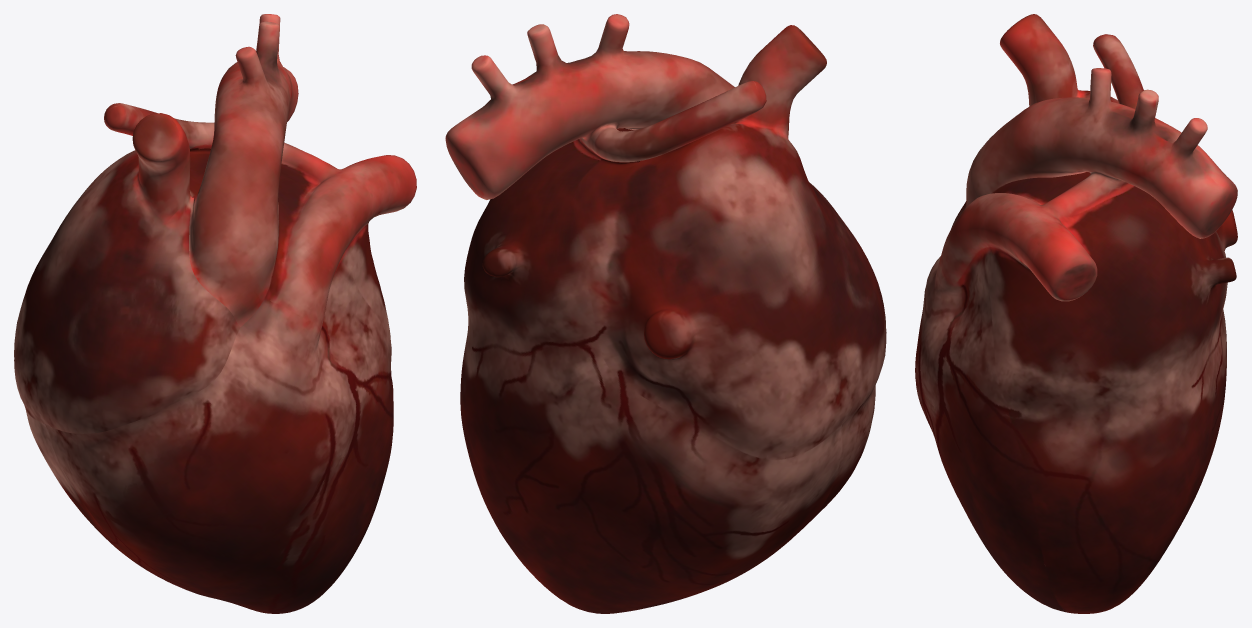
The model's file is heart-realistic.glb.
The picture shows the model from 3 angles, left to right: view 1: azimuth 30°, elevation 25°; view 2: azimuth 150°, elevation 25°; view 3: azimuth 270°, elevation 25°; orthographic projection. The views are drawn at different scales.
Visible parts, largest first — view 1: hart:ZBrush_defualt_group_Heart Tex_0; view 2: hart:ZBrush_defualt_group_Heart Tex_0; view 3: hart:ZBrush_defualt_group_Heart Tex_0.
Part boxes in pixels (x1,y1,x2,y2): hart:ZBrush_defualt_group_Heart Tex_0: (14, 14, 416, 613); hart:ZBrush_defualt_group_Heart Tex_0: (445, 14, 886, 613); hart:ZBrush_defualt_group_Heart Tex_0: (915, 14, 1237, 613).
Bounding box in the file's own units: 1.08 × 1.6 × 0.8801.
Materials: 1 (1 with a texture image).
